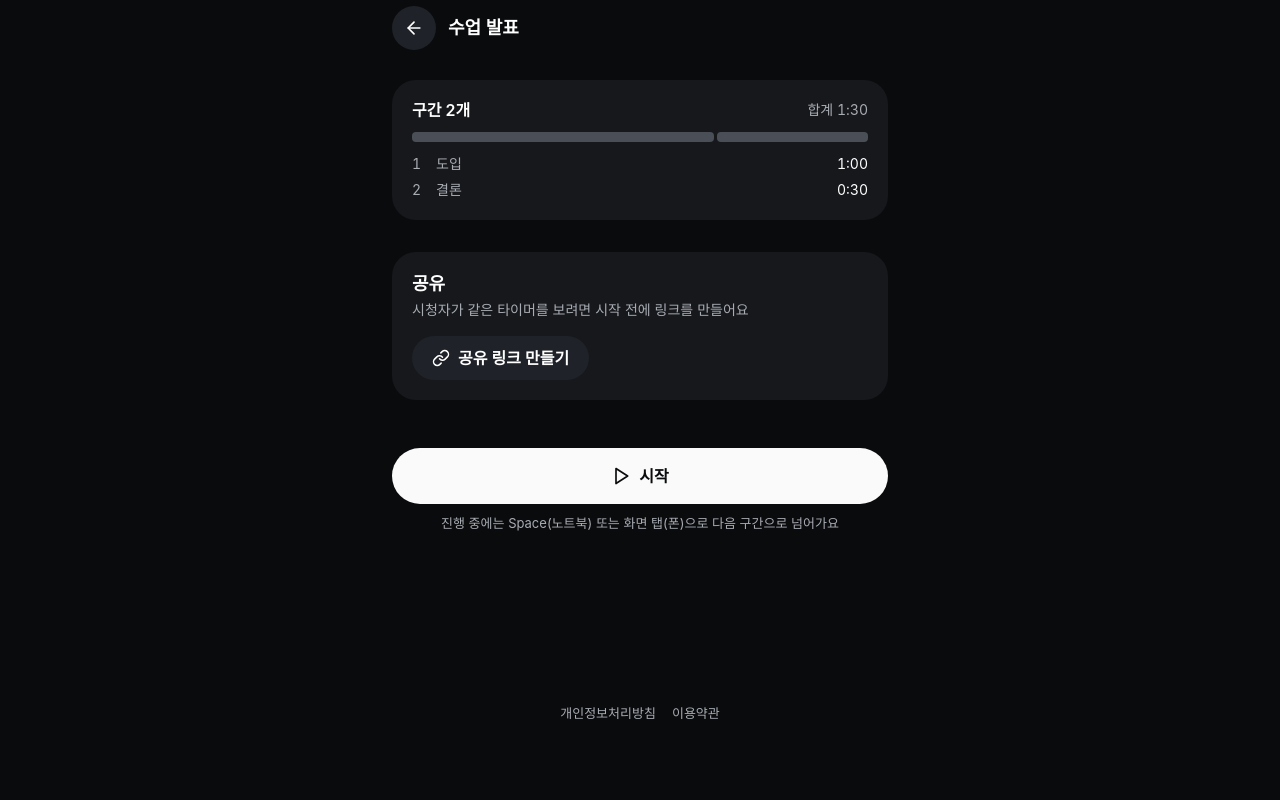
Test: RunScreen › allows retry after save failure
Click the button "시작".
click(640, 476)  # box [392,448,888,504]
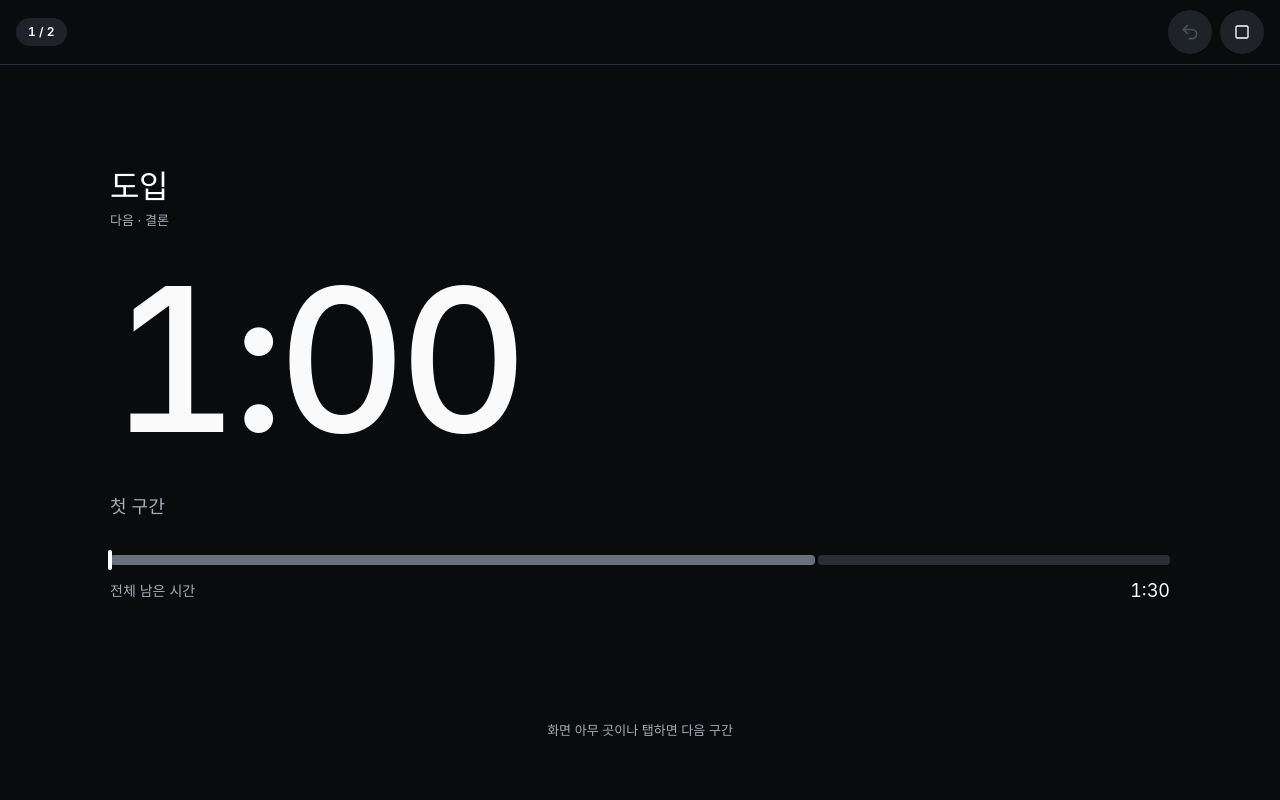
Press Space
Wait 500 ms
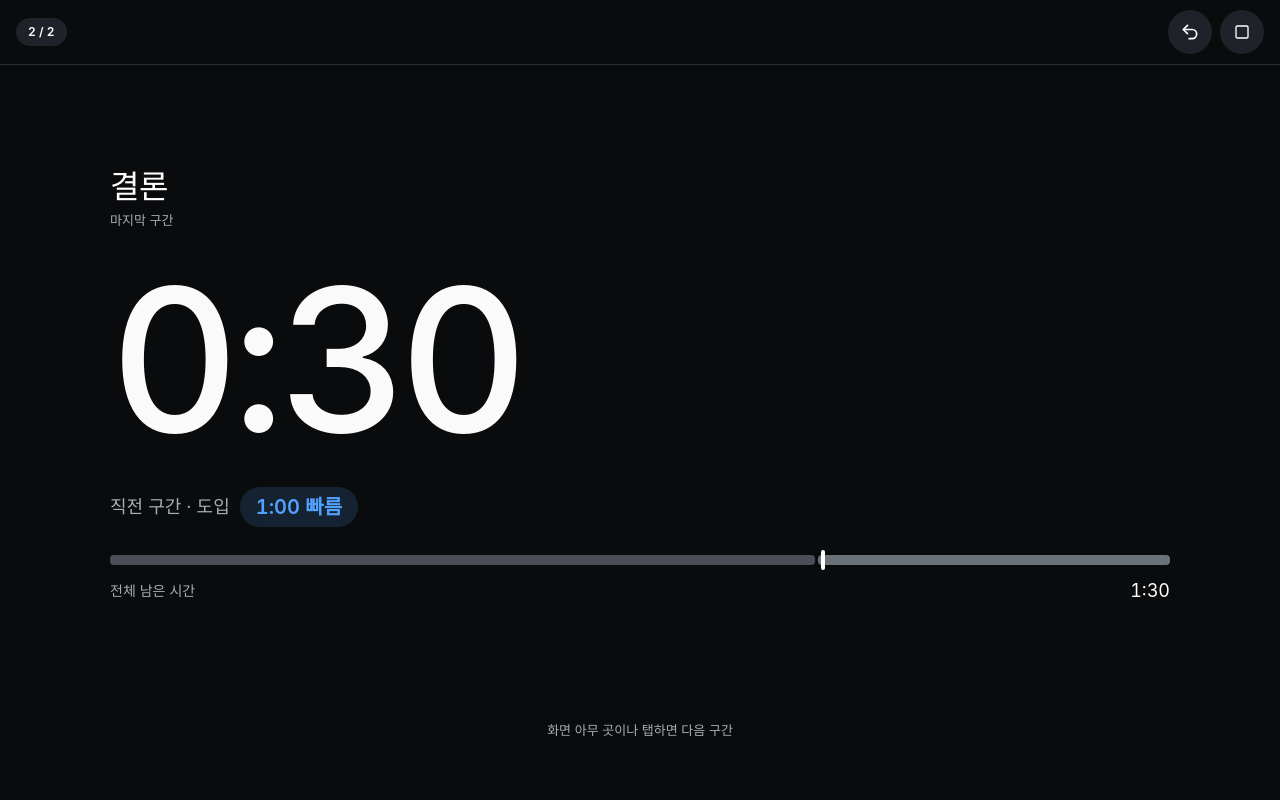
Press Space
Wait 500 ms
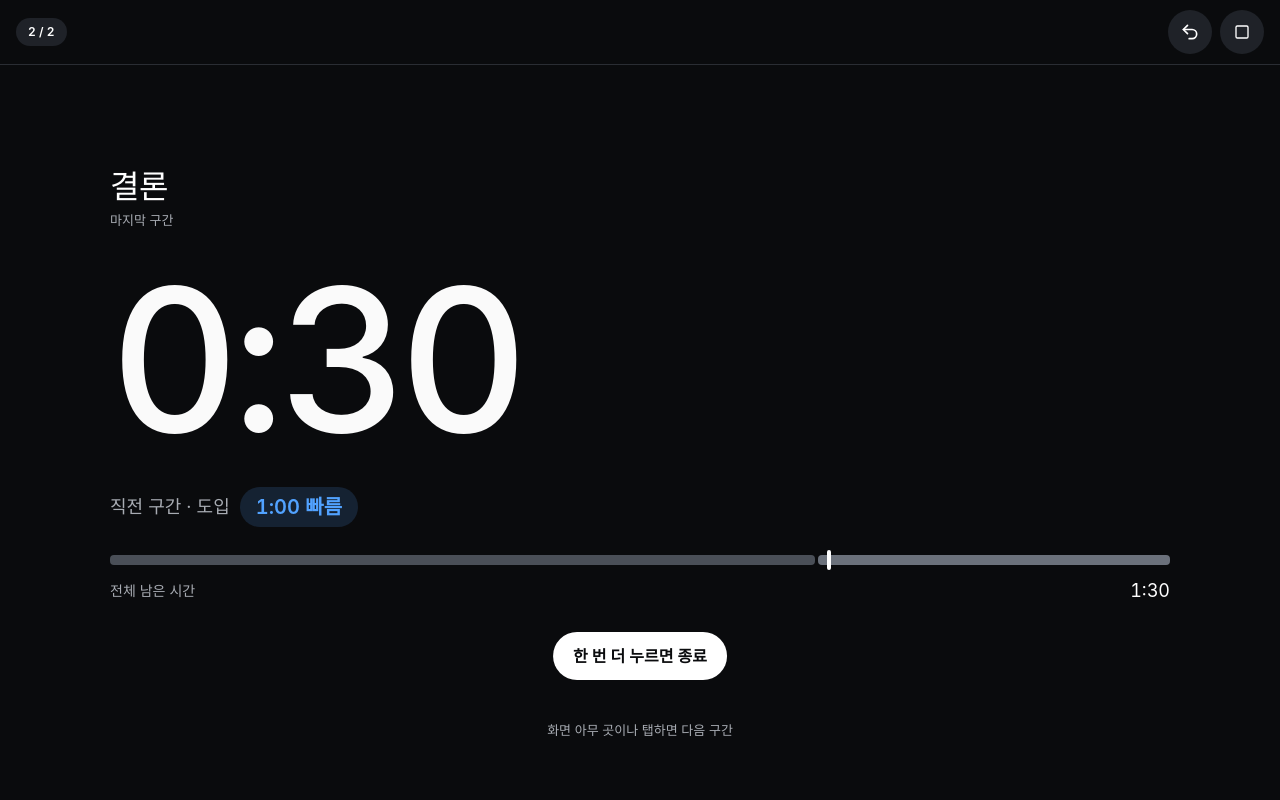
Press Space
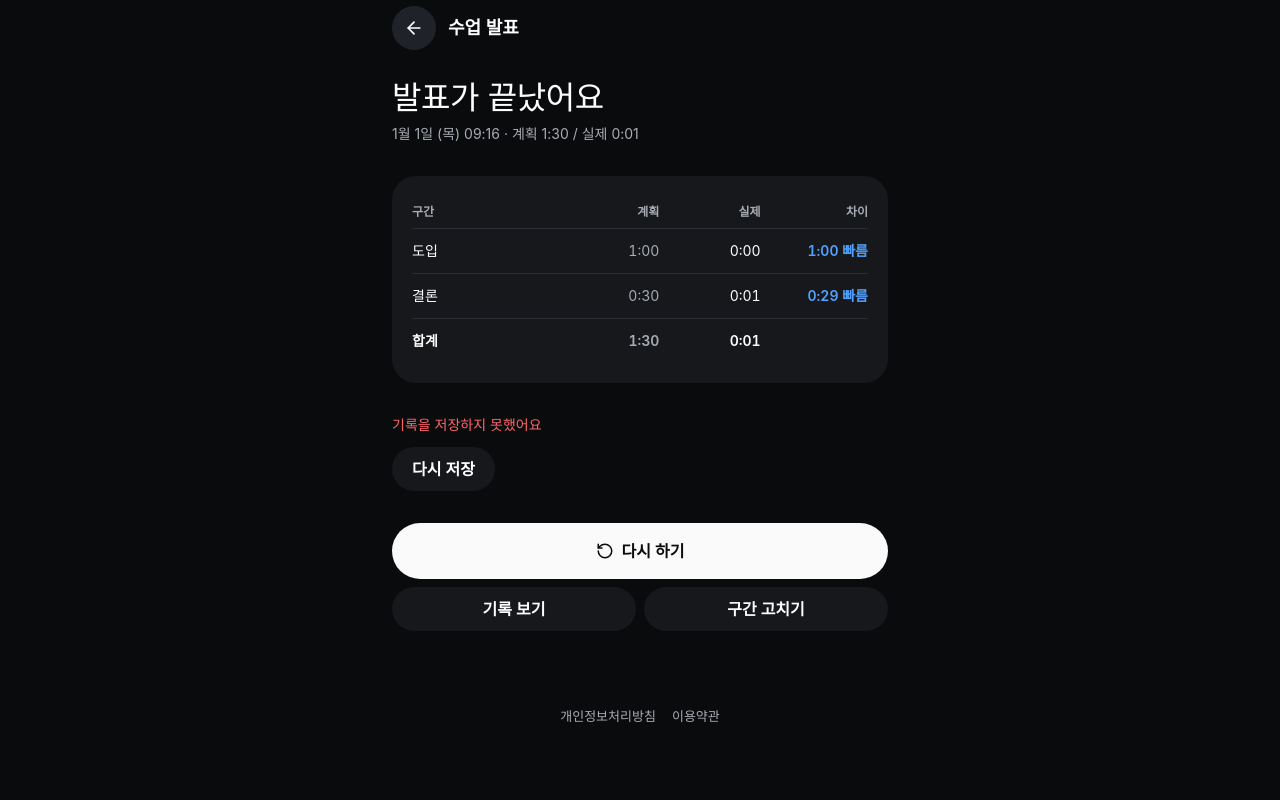
Expected: the message reads "기록을 저장하지 못했어요", [392,416,542,433]
Click the button "다시 저장".
click(443, 469)  # box [392,447,495,491]
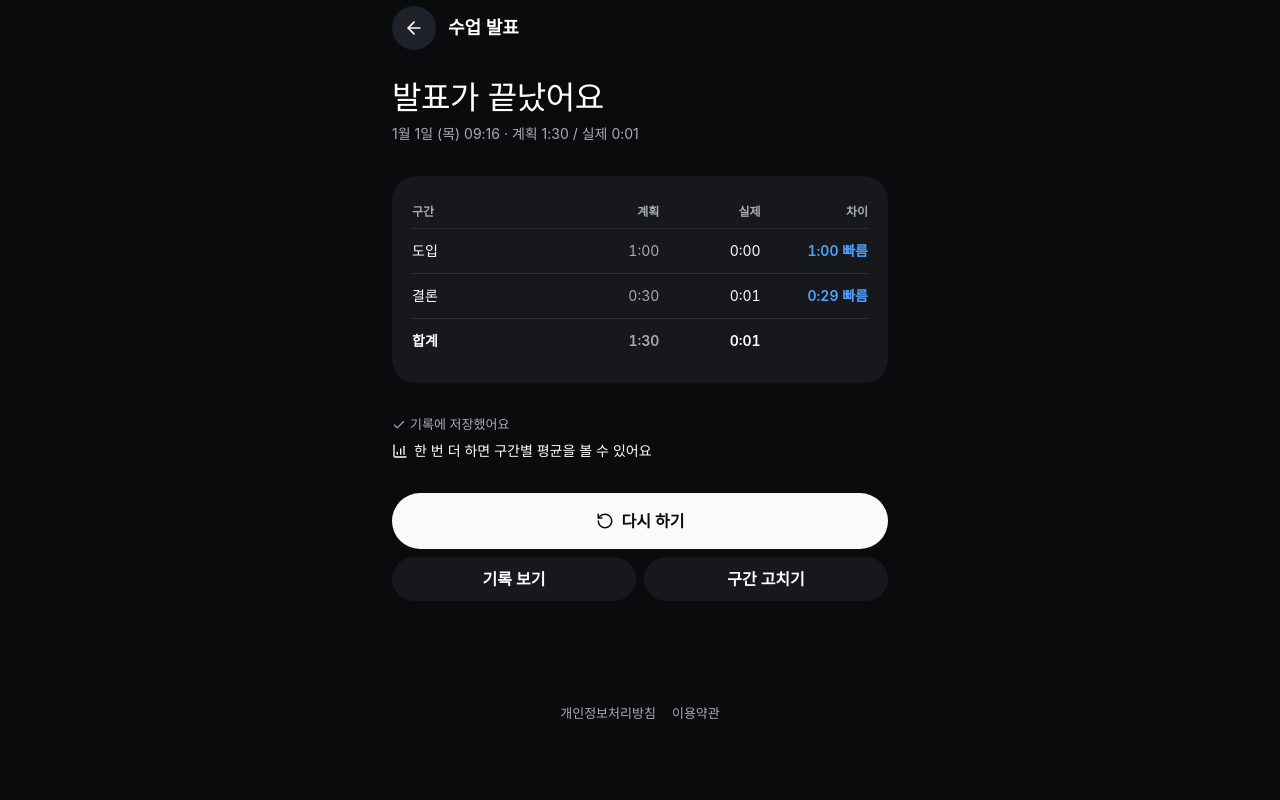
Expected: the text "기록에 저장했어요" is shown, [392,416,509,432]
Expected: the button "다시 저장" is gone
